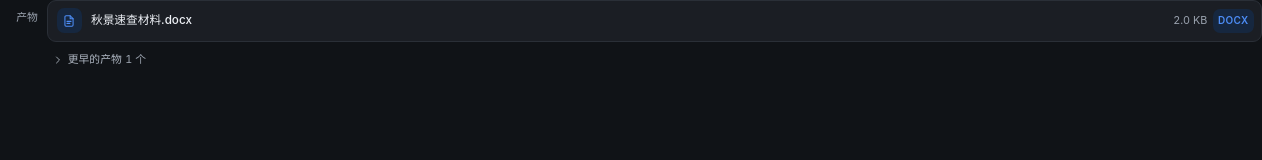
Test: ArtifactDelivery 版式与折叠 › 产物数大于 1 就折叠：只铺最新的那份，其余进「更早的产物」
The width and height of the screenshot is (1262, 160).
Expected: the button "秋景速查材料.docx" is shown, 91,12 -> 1158,29
Expected: the text "24级软件工程_文件摘要_2026-10-27.docx" is not shown
Click the button "更早的产物 1 个" at coordinates (99, 60), box 47,49 -> 152,71
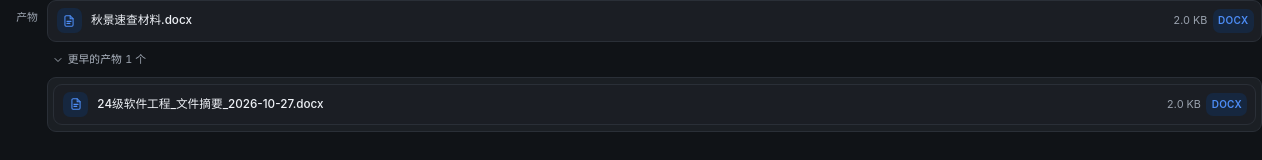
Expected: the button "更早的产物 1 个" is expanded
Expected: the button "24级软件工程_文件摘要_2026-10-27.docx" is shown, 97,96 -> 1152,113
# 再点一次收起：历史产物不该长期占着一屏
Click the button "更早的产物 1 个" at coordinates (99, 60), box 47,49 -> 152,71
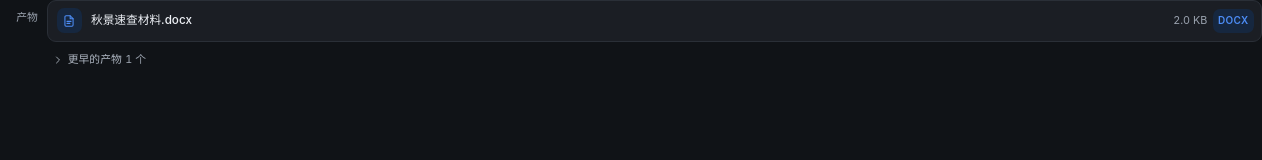
Expected: the button "24级软件工程_文件摘要_2026-10-27.docx" is gone
